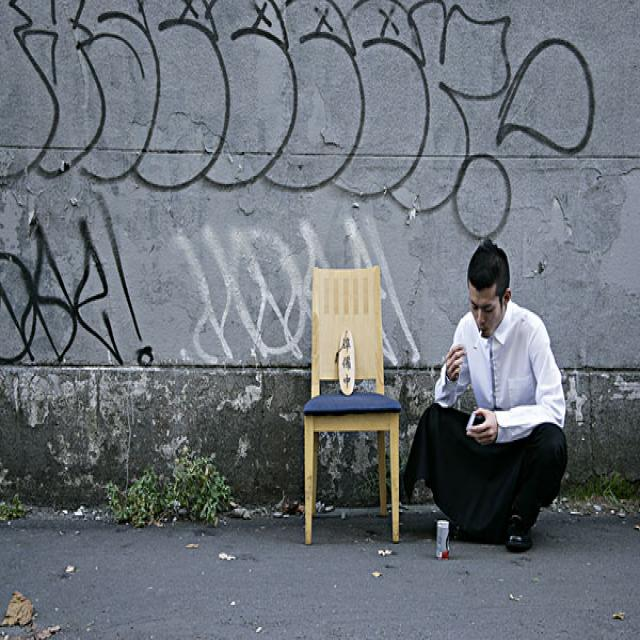smoking: (473, 327, 484, 354)
